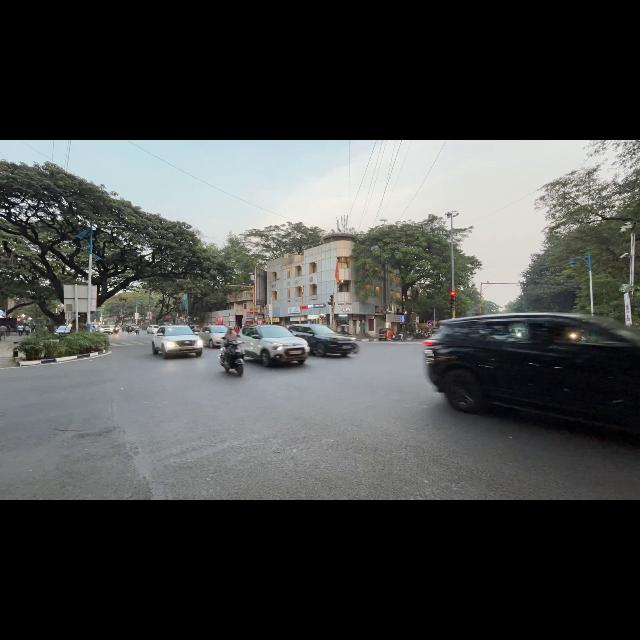car: (424, 314, 639, 428), (239, 325, 309, 366), (289, 324, 354, 356), (152, 326, 202, 358), (198, 326, 226, 347), (54, 325, 71, 337), (99, 325, 113, 333), (147, 325, 159, 333)
motorcycle: (219, 339, 244, 375), (350, 342, 360, 354), (392, 333, 403, 340), (126, 326, 134, 334), (114, 326, 119, 333), (135, 327, 139, 334)
